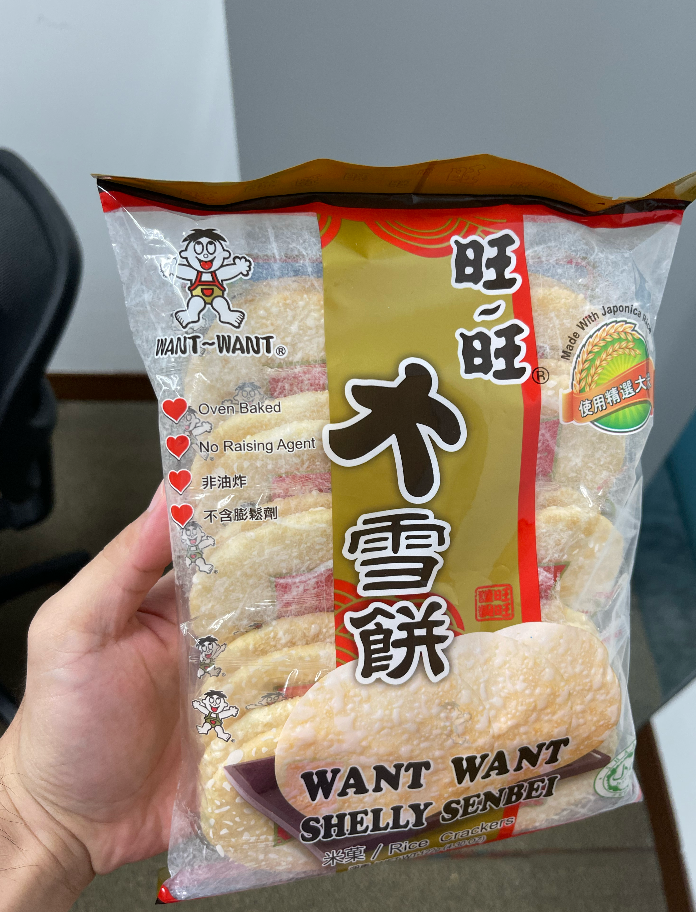crackers_100g-199g: (192, 212, 632, 844)
